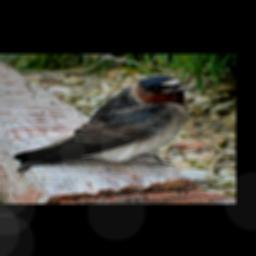Swallow: (10, 73, 196, 175)
